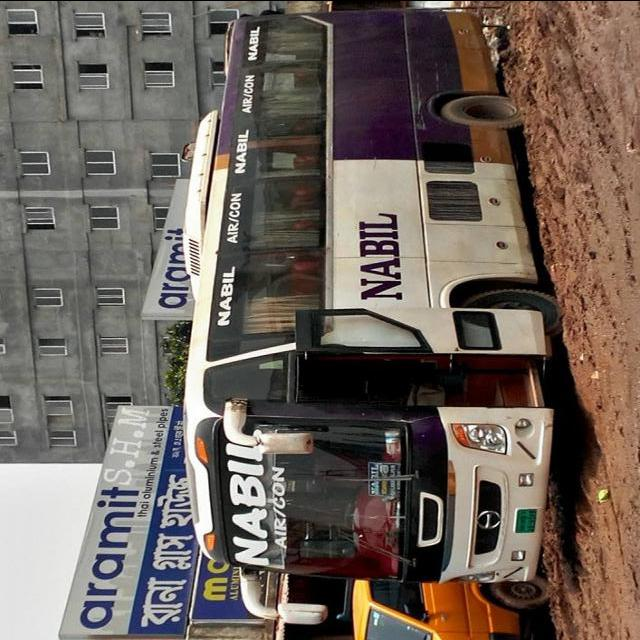bus: (182, 7, 567, 625)
